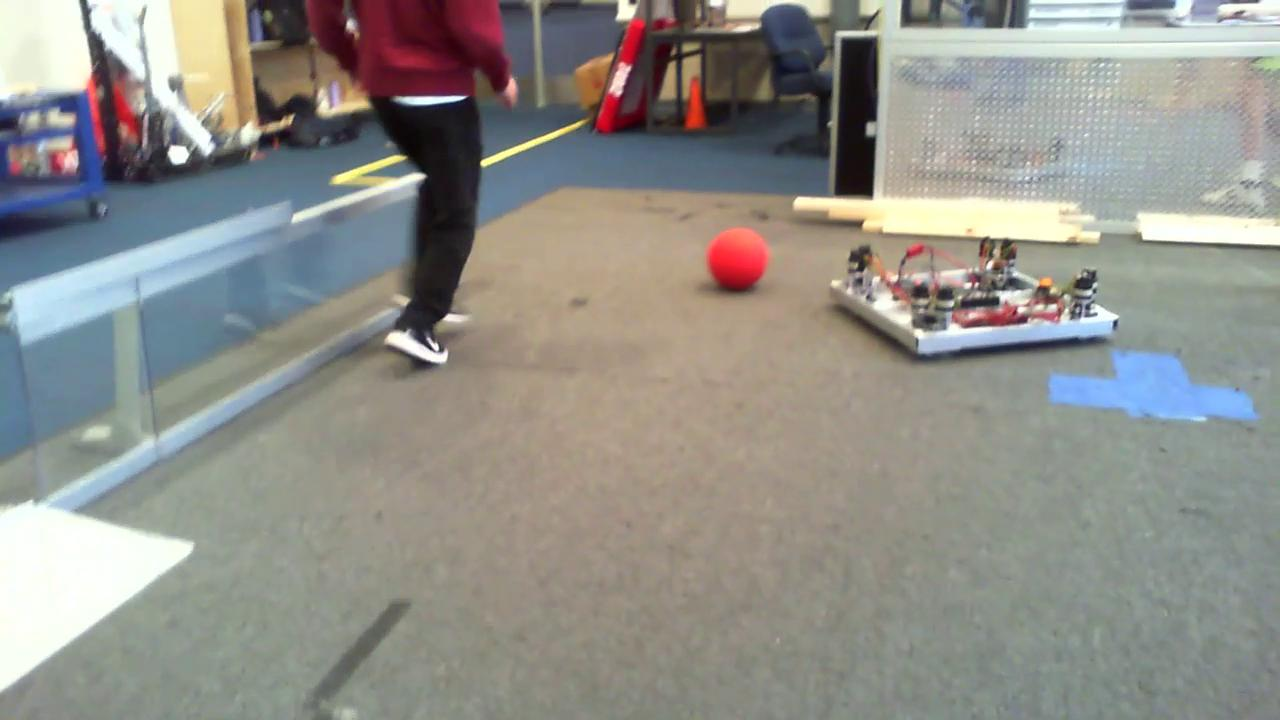Red_Ball: (692, 224, 779, 297)
